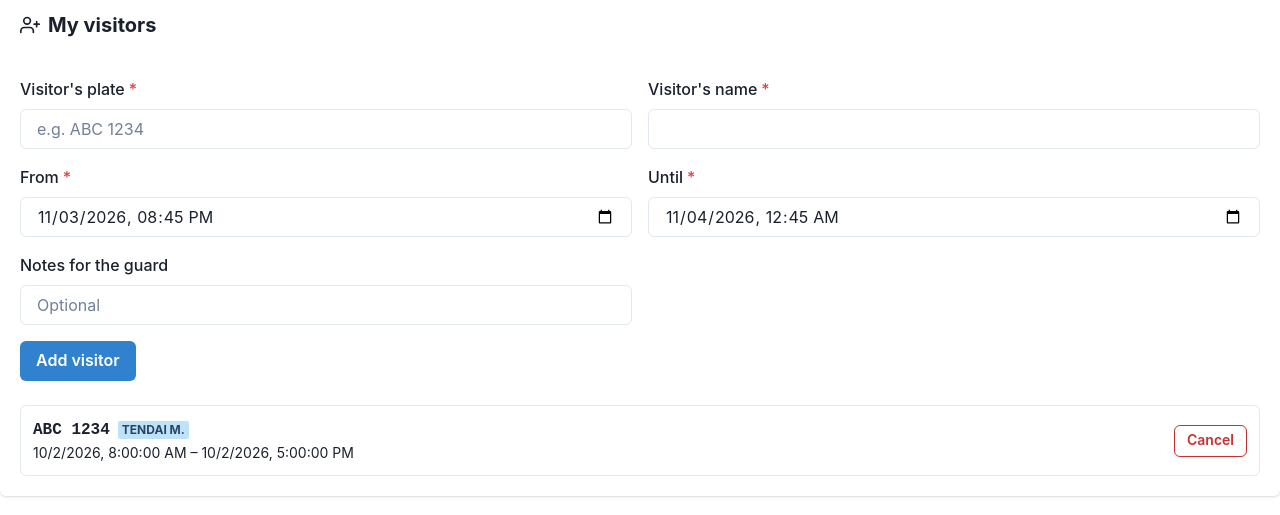
Test case: VisitorPasses › lists expected visitors and cancels one
Expected: the text "Tendai M." is shown, x1=118 y1=421 x2=189 y2=439
Click the button "Cancel". click: (1210, 440)
box: x1=1174 y1=424 x2=1247 y2=456
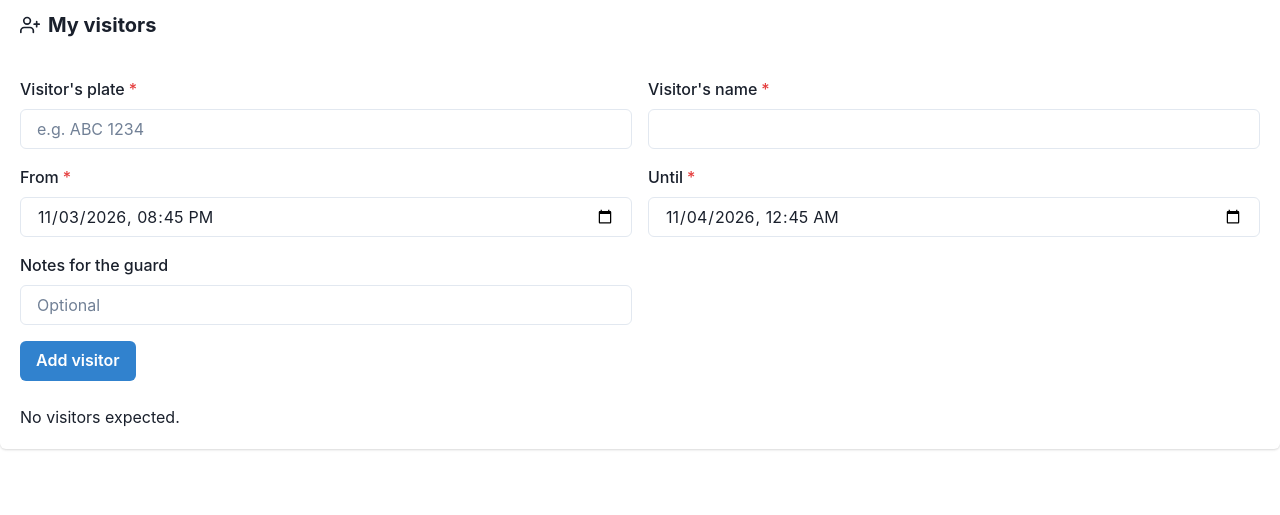
Result: the text "Tendai M." is gone
